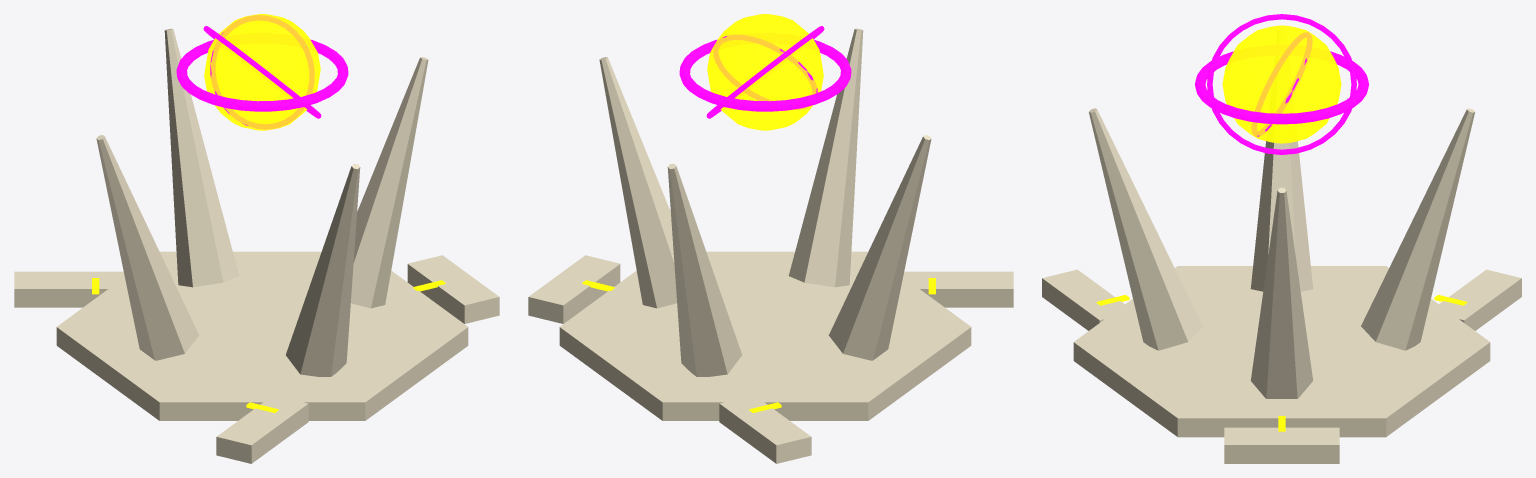
Rendered from solar_astral_forge.glb.
The picture shows the model from 3 angles, left to right: view 1: azimuth 30°, elevation 25°; view 2: azimuth 150°, elevation 25°; view 3: azimuth 270°, elevation 25°; orthographic projection.
Parts seen in each view (by area): view 1: SolarAstralForge; view 2: SolarAstralForge; view 3: SolarAstralForge.
Boxes of the visible parts, x1=… form: SolarAstralForge: x1=14, y1=14, x2=499, y2=463; SolarAstralForge: x1=528, y1=14, x2=1013, y2=463; SolarAstralForge: x1=1042, y1=14, x2=1521, y2=463.
Size of the model in its own units: 5.87 by 4.9 by 6.45.
